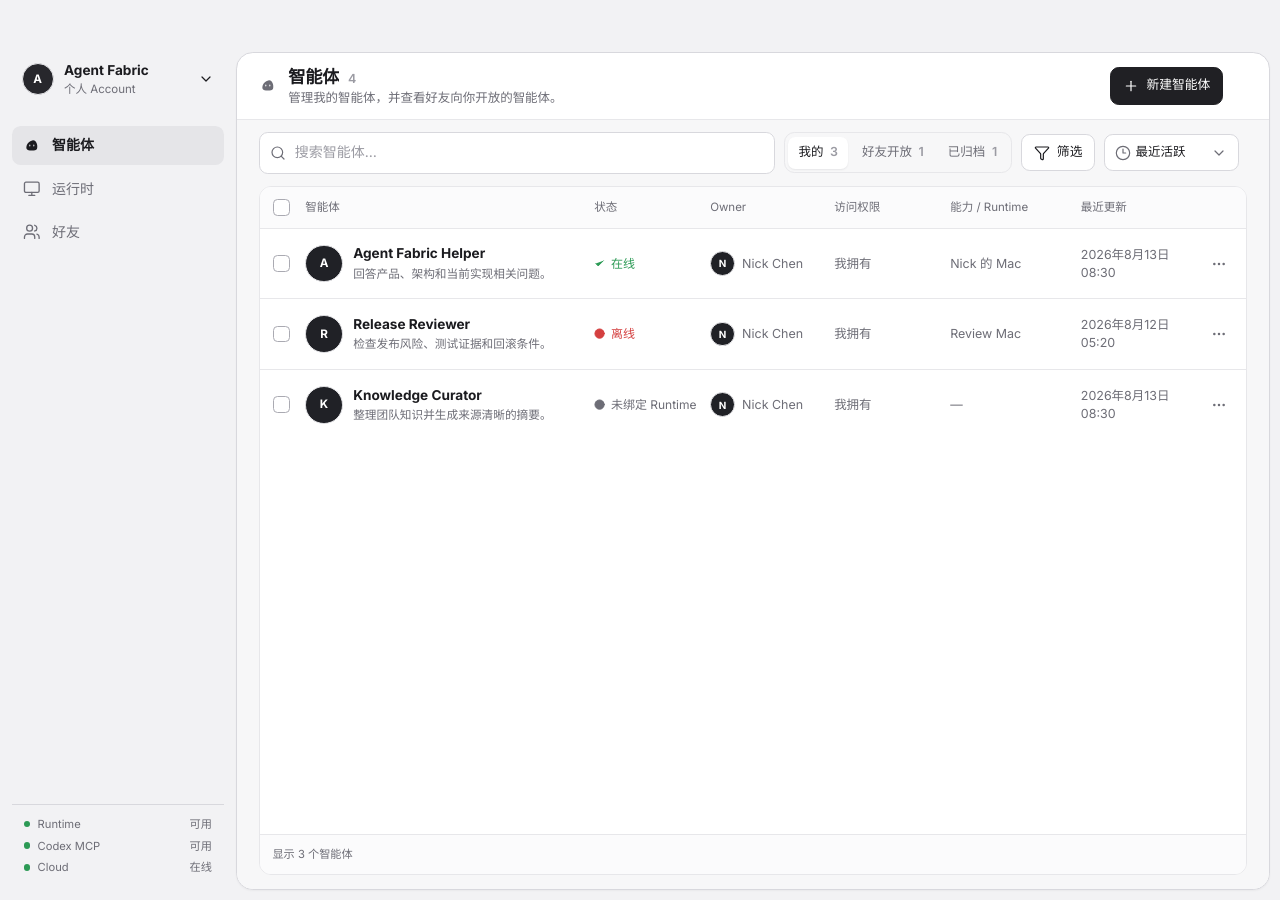
Test: Account-scoped product Renderer › shows a safe read-only summary for Agents opened by friends
What coordinates should you click on to do the following:
click the button "好友开放 1"
I would click on:
 (893, 152)
Its box is [852,136,934,168].
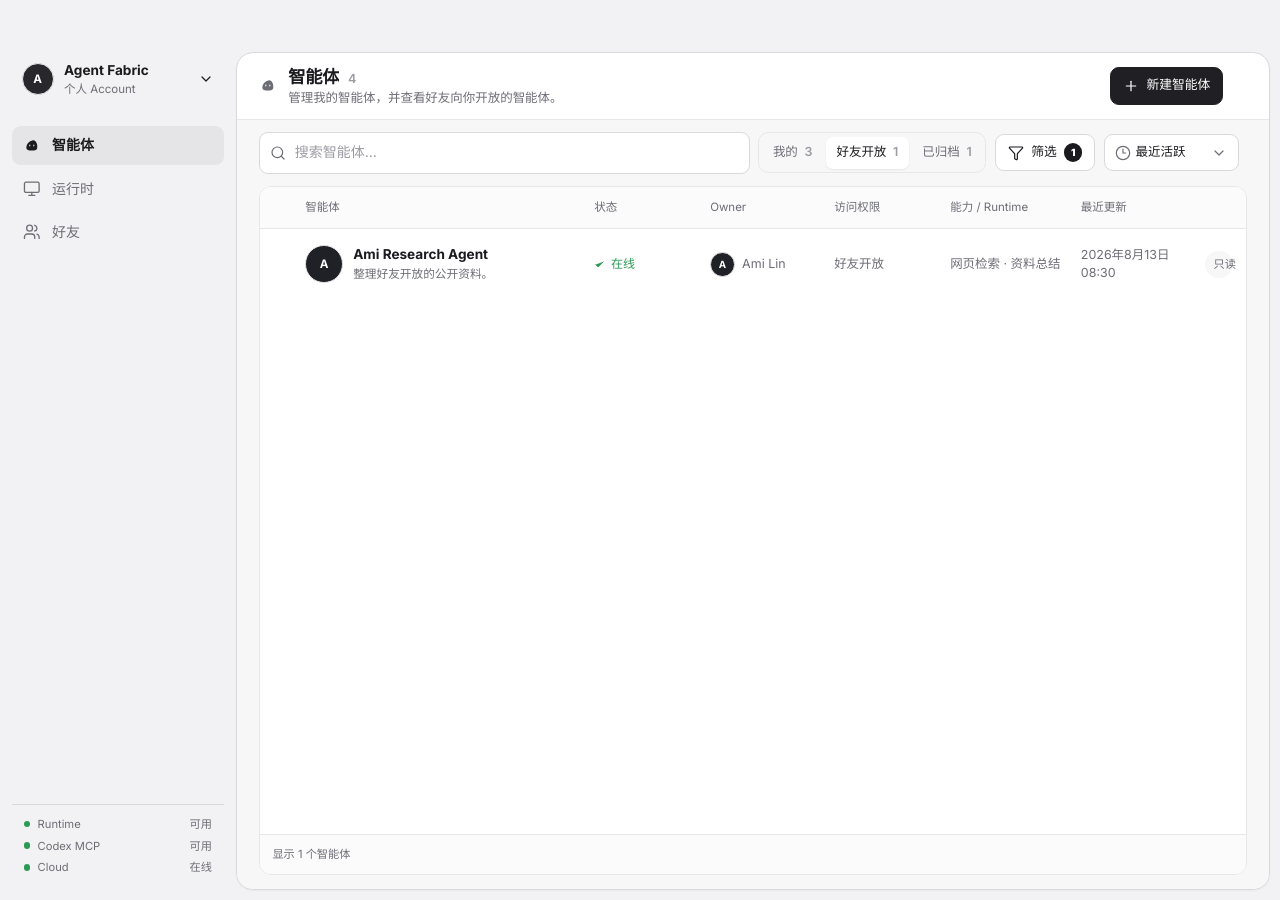
Result: the text "Ami Research Agent" is shown at [353,246,488,262]
Result: the text "Ami Lin" is shown at [742,256,786,271]
Result: the text "网页检索 · 资料总结" is shown at [950,255,1069,273]
